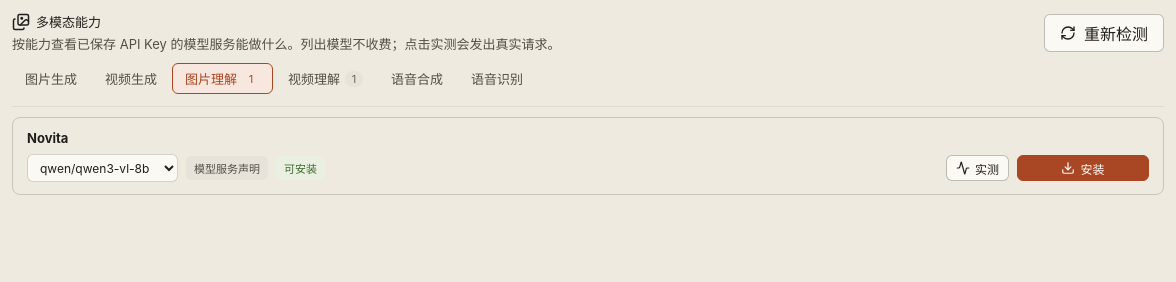
MultimodalSection › probes the selected model and shows the verdict
Select "moonshotai/kimi-k3" in the dropdown named "Novita 的图片理解模型". click: (102, 168)
box: [27,154,178,182]
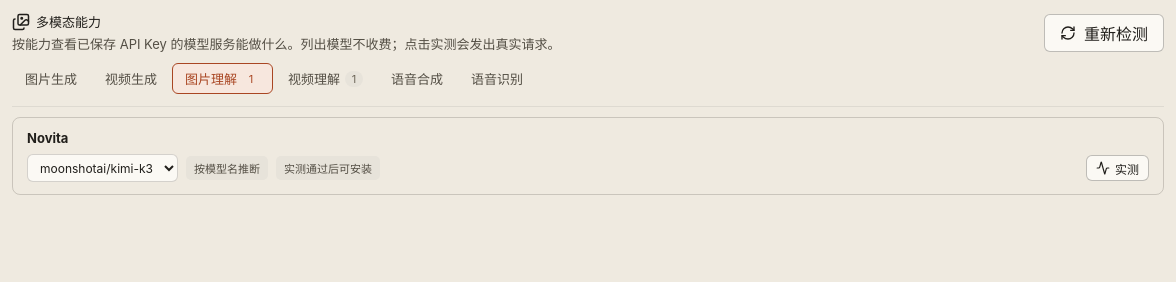
Result: the text "实测通过后可安装" is shown at [276,156,380,180]
Click the button "实测". click: (1118, 168)
box: [1086,155,1149,181]
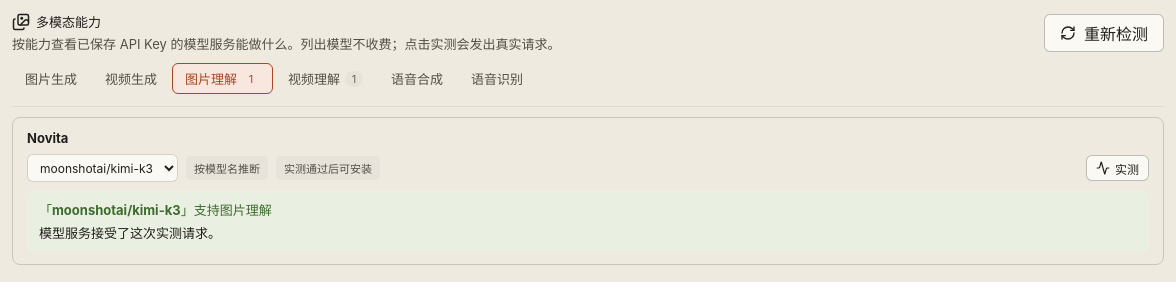
Result: the text "「moonshotai/kimi-k3」支持图片理解" is shown at [39,200,272,219]
